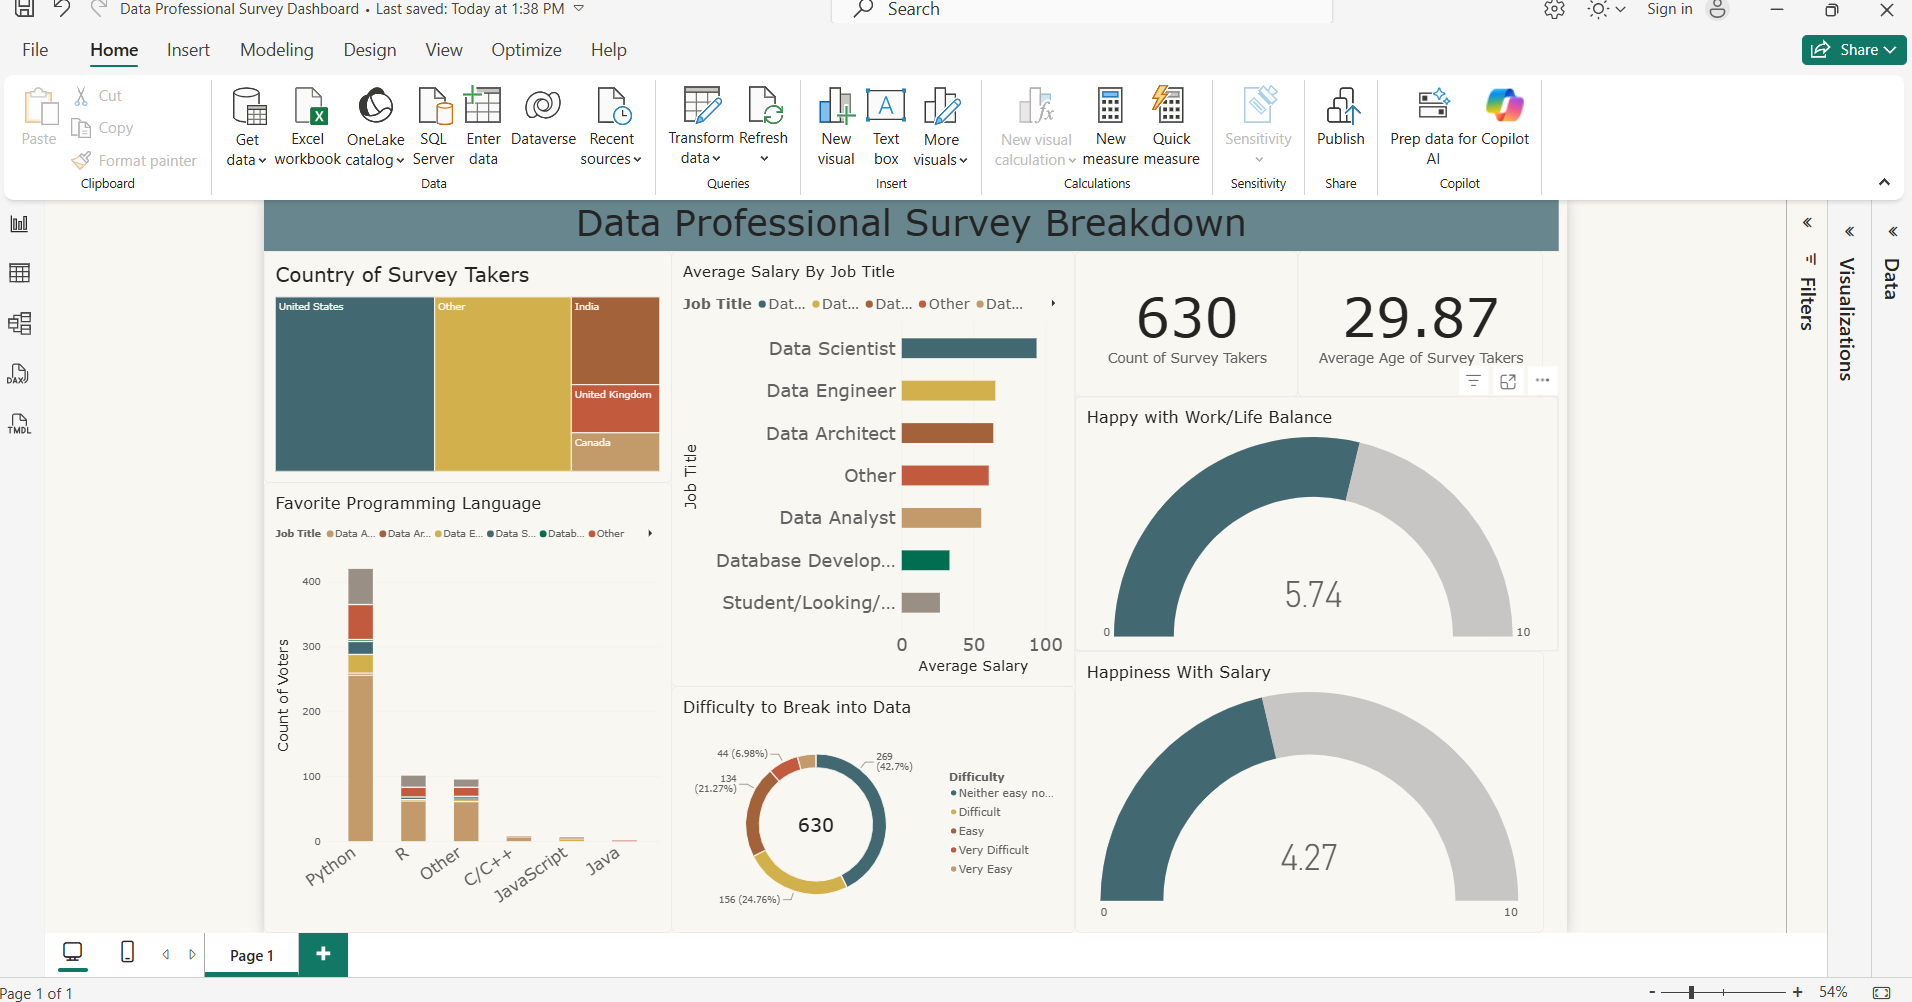

This screenshot's page, from the dashboard's own definition file:
{"tool":"powerbi","page":{"name":"Page 1","canvas":[1920,1080],"ordinal":0},"visuals":[{"type":"textbox","box":[0,0,1906.1,75.5],"z":0},{"type":"cardVisual","fields":{"Data":["Count(Data Professional Survey.Unique ID)"]},"box":[1193.9,75.5,328.6,214.3],"z":1000},{"type":"cardVisual","fields":{"Data":["Avg(Data Professional Survey.Q10 - Current Age)"]},"box":[1522.4,75.5,361.2,214.3],"z":2000},{"type":"barChart","title":"Average Salary By Job Title","fields":{"Category":["Data Professional Survey.Q1 - Which Title Best Fits your Current Role?.1"],"Series":["Data Professional Survey.Q1 - Which Title Best Fits your Current Role?.1"],"Y":["Avg(Data Professional Survey.Average Salary)"]},"box":[600,75.5,593.9,640.8],"z":3000},{"type":"columnChart","title":"Favorite Programming Language","fields":{"Category":["Data Professional Survey.Q5 - Favorite Programming Language.1"],"Series":["Data Professional Survey.Q1 - Which Title Best Fits your Current Role?.1"],"Y":["CountNonNull(Data Professional Survey.Unique ID)"]},"box":[0,416.3,600,663.3],"z":4000},{"type":"treemap","title":"Country of Survey Takers","fields":{"Group":["Data Professional Survey.Q11 - Which Country do you live in?.1"],"Values":["CountNonNull(Data Professional Survey.Q11 - Which Country do you live in?.1)"]},"box":[0,75.5,600,340.8],"z":4001},{"type":"gauge","title":"Happy with Work/Life Balance","fields":{"MaxValue":["Max(Data Professional Survey.Q6 - How Happy are you in your Current Position with the following? (Work/Life Balance))1"],"MinValue":["Min(Data Professional Survey.Q6 - How Happy are you in your Current Position with the following? (Work/Life Balance))"],"Y":["Avg(Data Professional Survey.Q6 - How Happy are you in your Current Position with the following? (Work/Life Balance))"]},"box":[1193.9,289.8,712.2,375.5],"z":4002},{"type":"gauge","title":"Happiness With Salary","fields":{"MaxValue":["Max(Data Professional Survey.Q6 - How Happy are you in your Current Position with the following? (Salary))1"],"MinValue":["Min(Data Professional Survey.Q6 - How Happy are you in your Current Position with the following? (Salary))"],"Y":["Avg(Data Professional Survey.Q6 - How Happy are you in your Current Position with the following? (Salary))"]},"box":[1193.9,665.3,689.8,414.3],"z":4003},{"type":"donutChart","title":"Difficulty to Break into Data","fields":{"Category":["Data Professional Survey.Q7 - How difficult was it for you to break into Data?"],"Y":["CountNonNull(Data Professional Survey.Q7 - How difficult was it for you to break into Data?)"]},"box":[600,716.3,593.9,363.3],"z":4004}]}

Visuals, with their boxes on the page's 1920x1080 design canvas (x1, y1, x2, y2). These are canvas units, not pixel positions in the 1912x1002 screenshot, which may show the page scaled, cropped or inside an application window:
textbox: 0, 0, 1906, 76
cardVisual - Count(Data Professional Survey.Unique ID): 1194, 76, 1522, 290
cardVisual - Avg(Data Professional Survey.Q10 - Current Age): 1522, 76, 1884, 290
"Average Salary By Job Title" barChart: 600, 76, 1194, 716
"Favorite Programming Language" columnChart: 0, 416, 600, 1080
"Country of Survey Takers" treemap: 0, 76, 600, 416
"Happy with Work/Life Balance" gauge: 1194, 290, 1906, 665
"Happiness With Salary" gauge: 1194, 665, 1884, 1080
"Difficulty to Break into Data" donutChart: 600, 716, 1194, 1080
